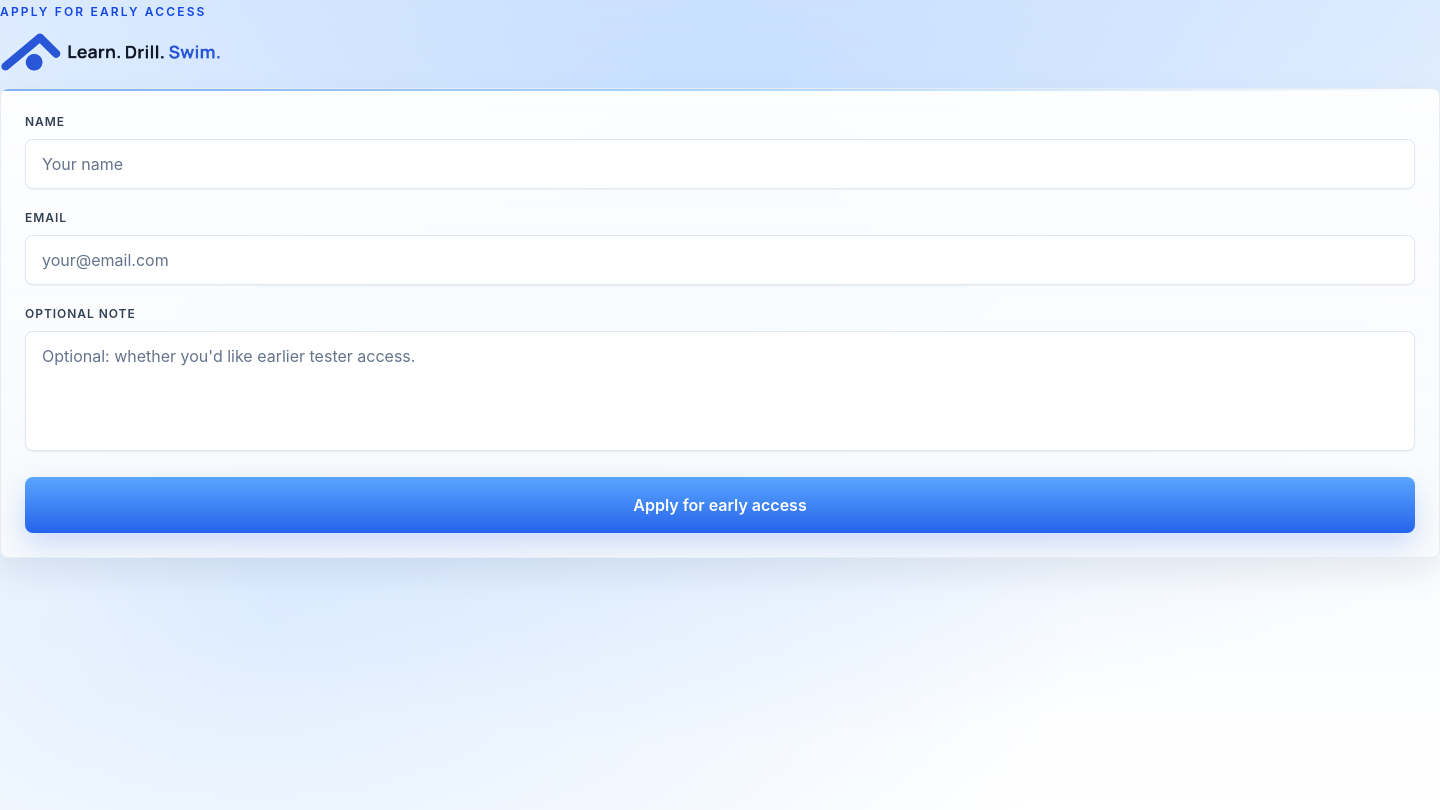
Test: ContactForm › allows preview notify submissions without a message
The width and height of the screenshot is (1440, 810).
Expected: the number of headings is 1, [0,4,207,19]
Expected: the picture with alt text "Learn. Drill. Swim." is shown, [0,32,221,72]
Step 1. Type "Test User" into the field labelled "NAME" → (720, 164), box [25,139,1415,189]
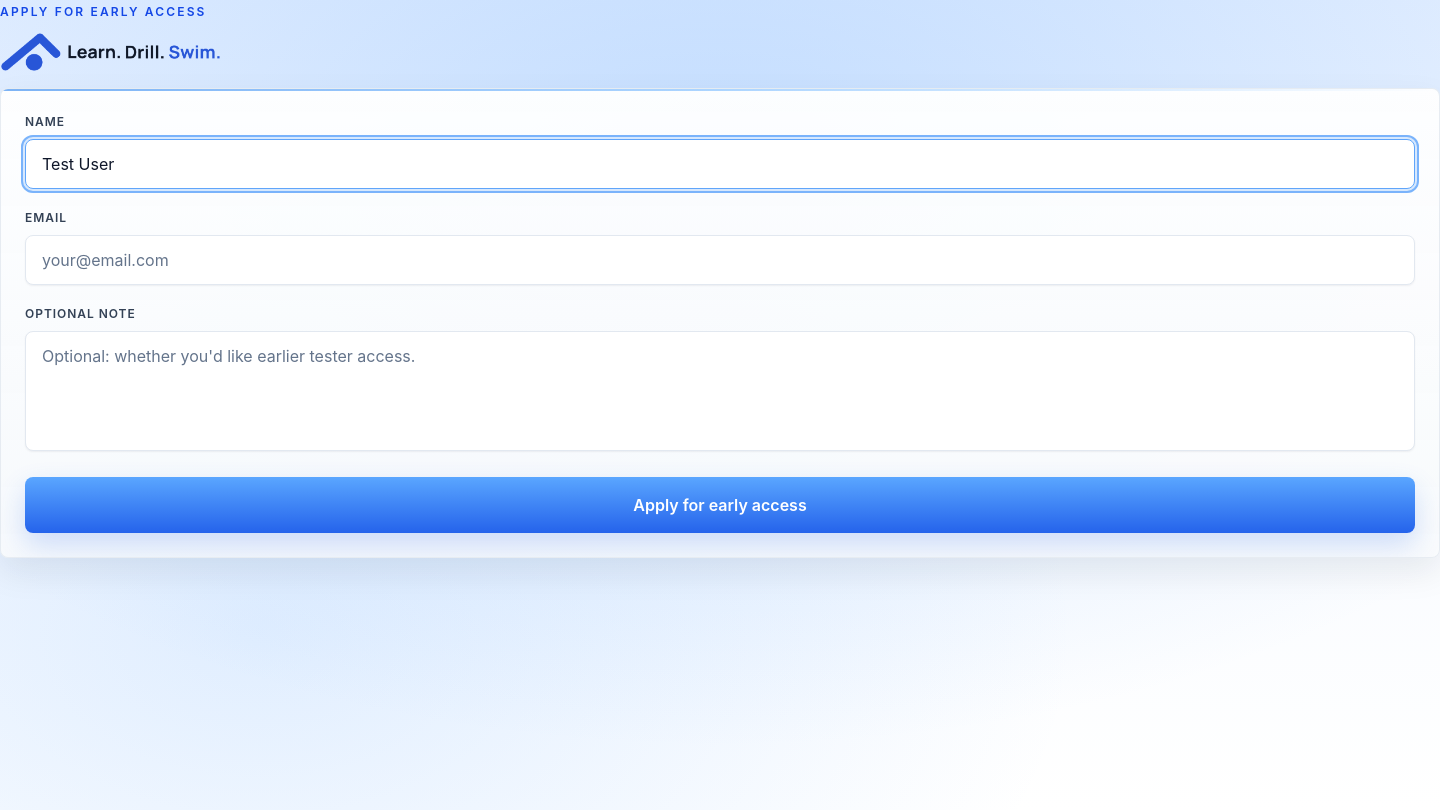
Step 2. Type "test@example.com" into the field labelled "EMAIL" → (720, 260), box [25,235,1415,285]
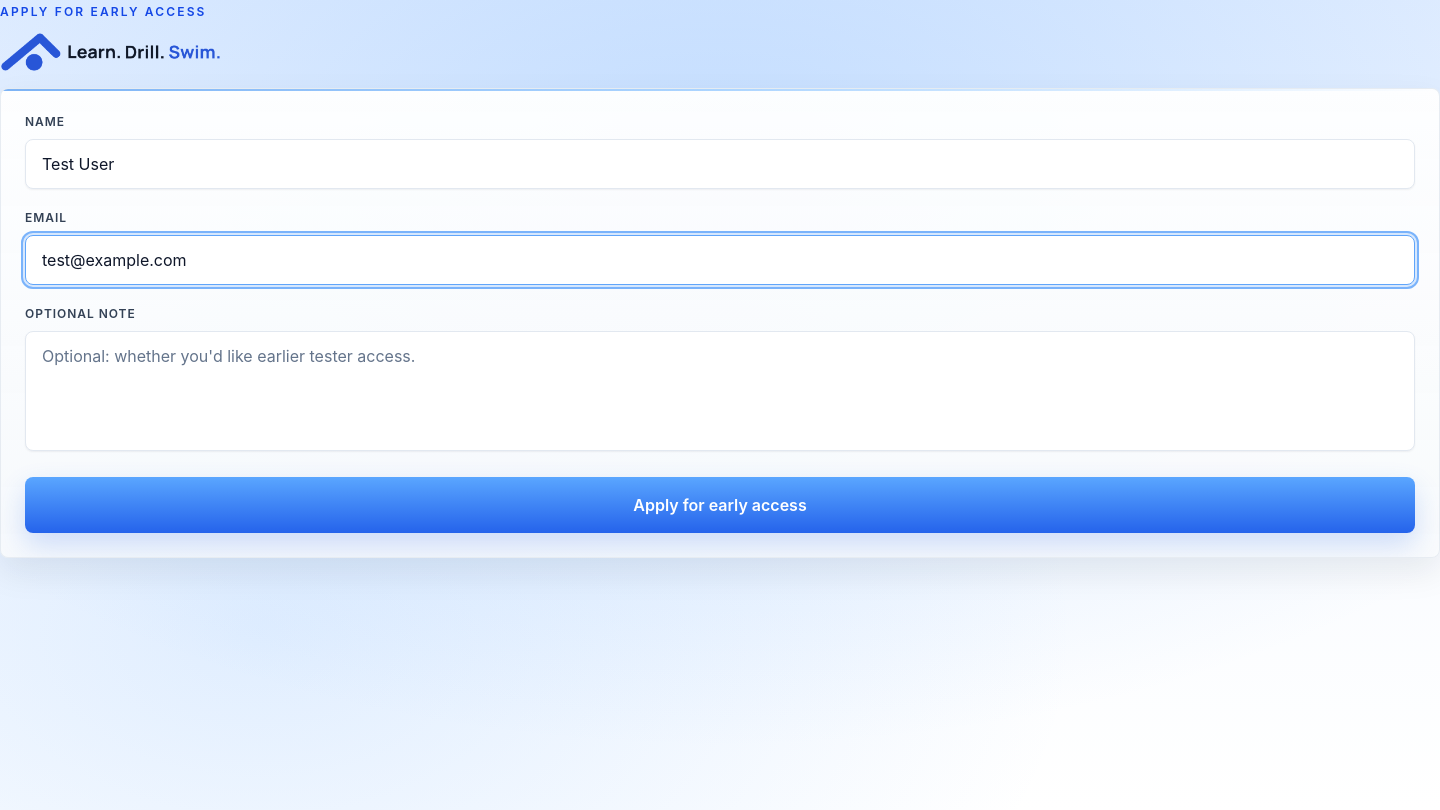
Step 3. Click the button "Apply for early access" → (720, 505), box [25,477,1415,533]
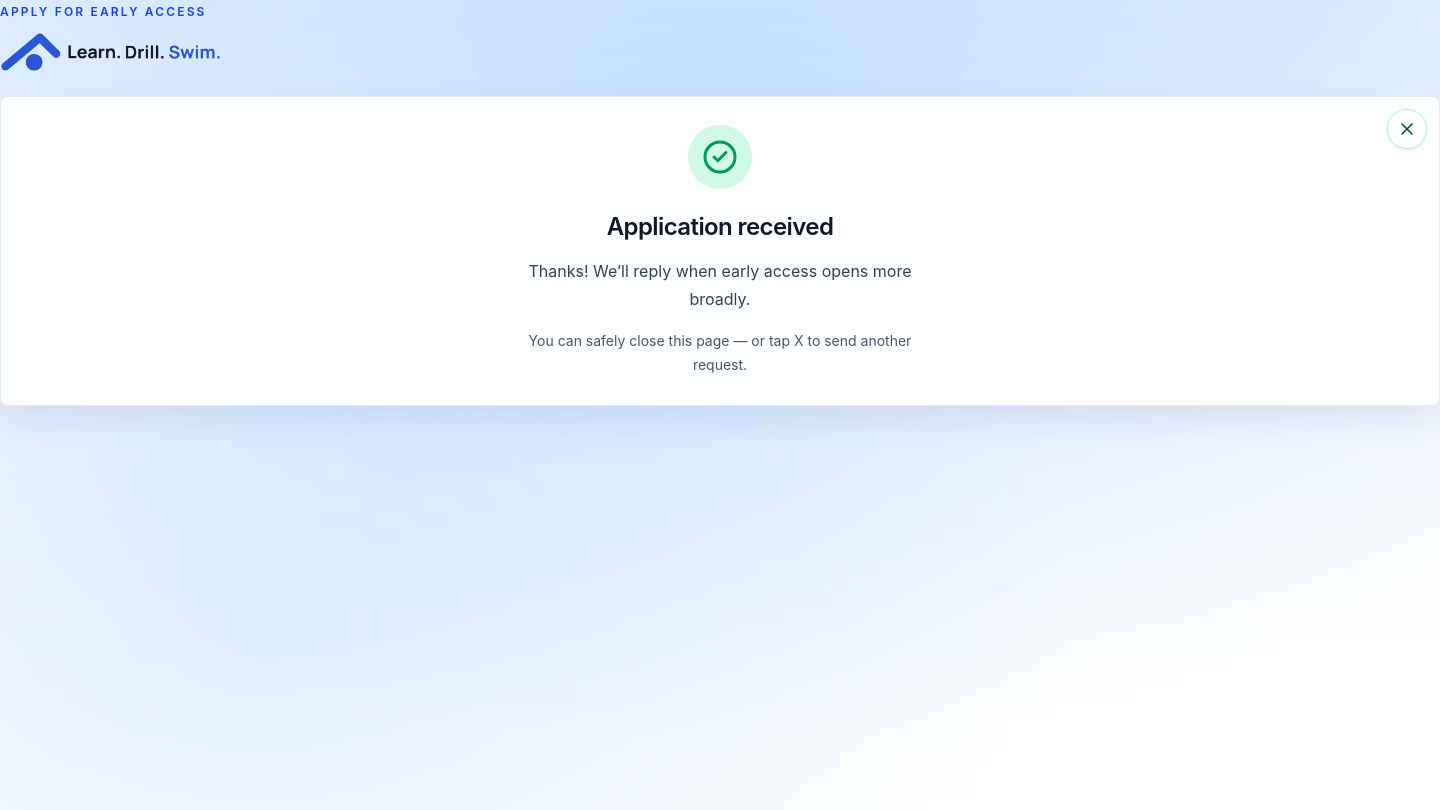
Now the heading "Application received" is shown, box [607,209,833,245]
Now the message shows "Application received", box [607,212,833,241]
